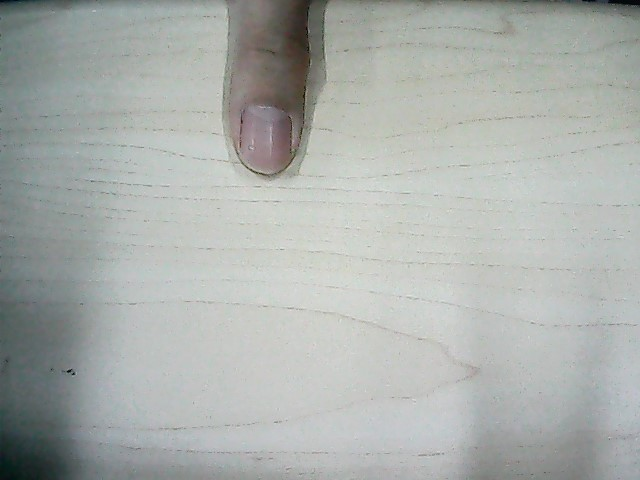nail: (241, 108, 289, 176)
